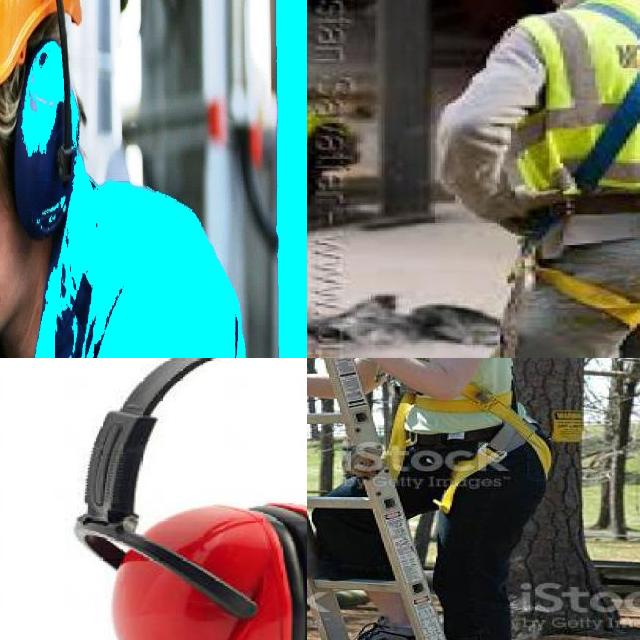Ear-protection: (92, 358, 307, 640), (16, 23, 94, 274)
Harness: (515, 0, 640, 329), (384, 384, 552, 514)
head_helmet: (0, 0, 102, 139)
